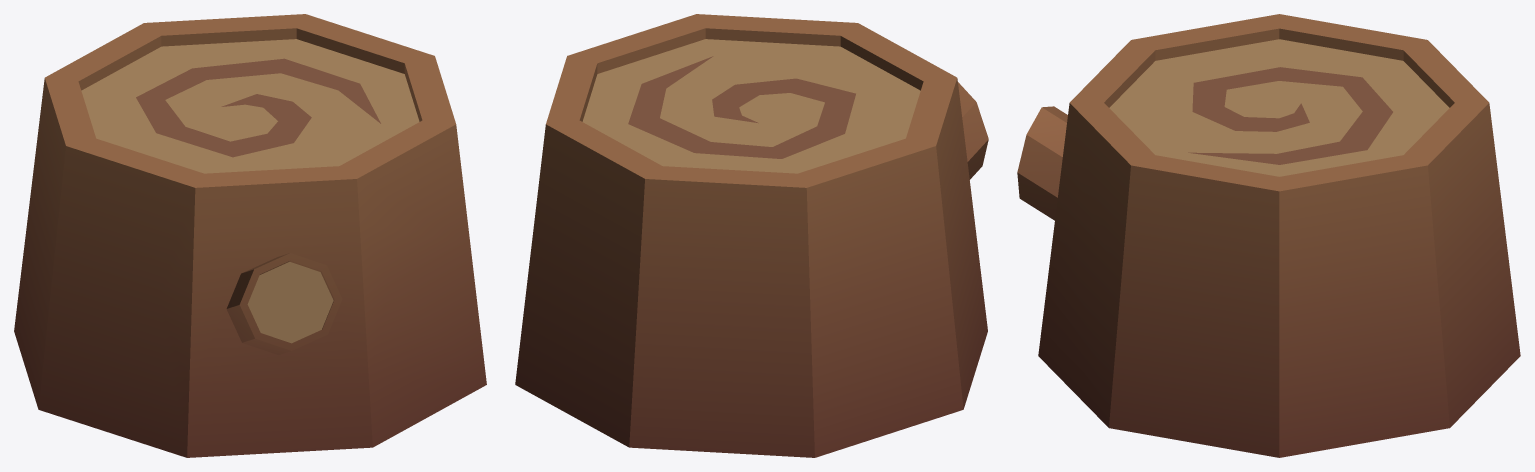
The model's file is Stump.fbx.
3 renders of one model, left to right at view 1: azimuth 30°, elevation 25°; view 2: azimuth 150°, elevation 25°; view 3: azimuth 270°, elevation 25°, orthographic.
Visible parts, largest first — view 1: Cylinder.008; view 2: Cylinder.008; view 3: Cylinder.008.
Boxes of the visible parts, bbox=[...] form: Cylinder.008: bbox=[14, 14, 486, 457]; Cylinder.008: bbox=[515, 14, 988, 457]; Cylinder.008: bbox=[1017, 14, 1520, 457].
Size of the model in its own units: 100 by 57.94 by 104.
